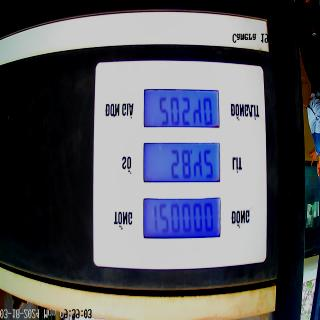screen: (142, 85, 222, 243)
